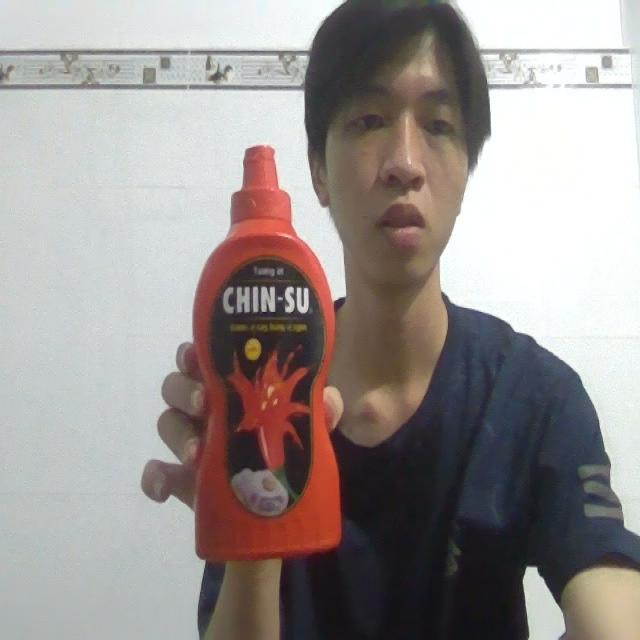tuong ot chinsu: (192, 138, 346, 563)
